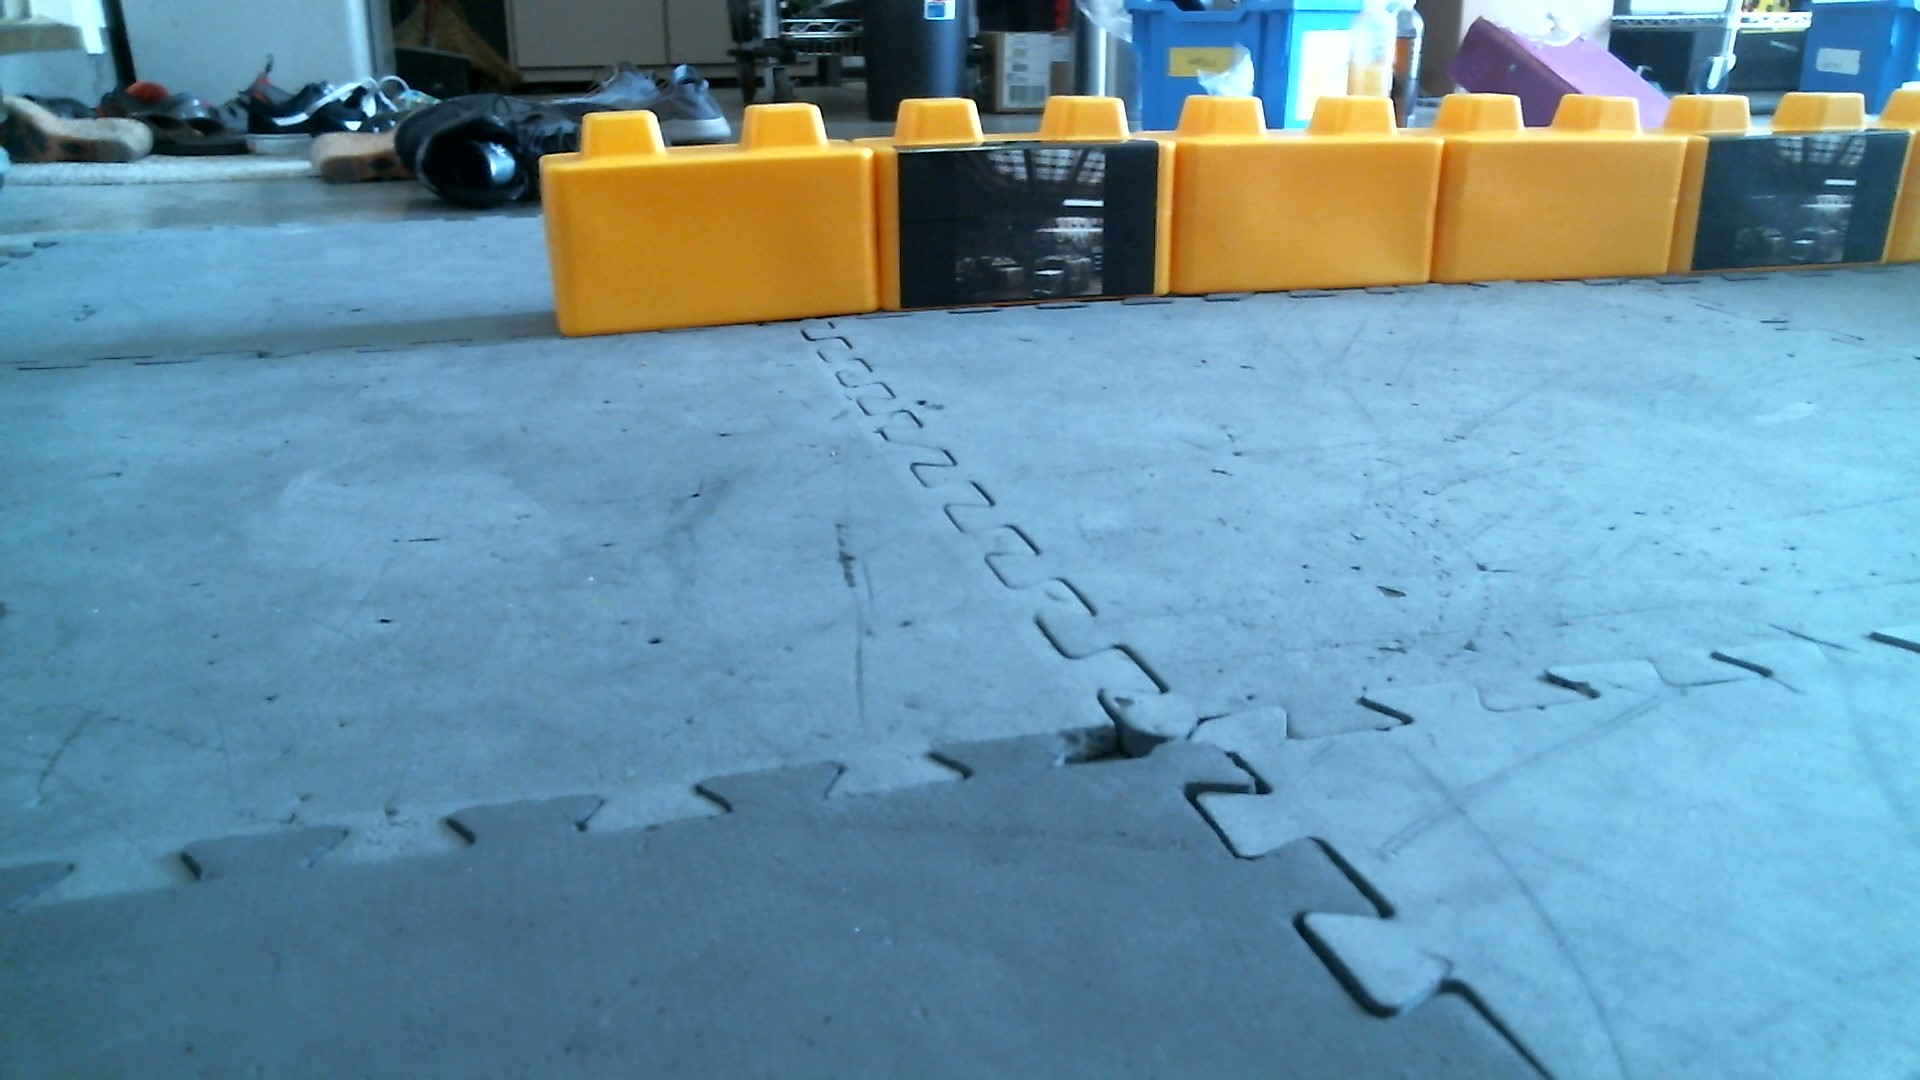skystone: (866, 94, 1174, 313), (1671, 96, 1903, 274)
stone: (535, 100, 873, 342), (1174, 94, 1443, 295), (1441, 91, 1680, 285)
